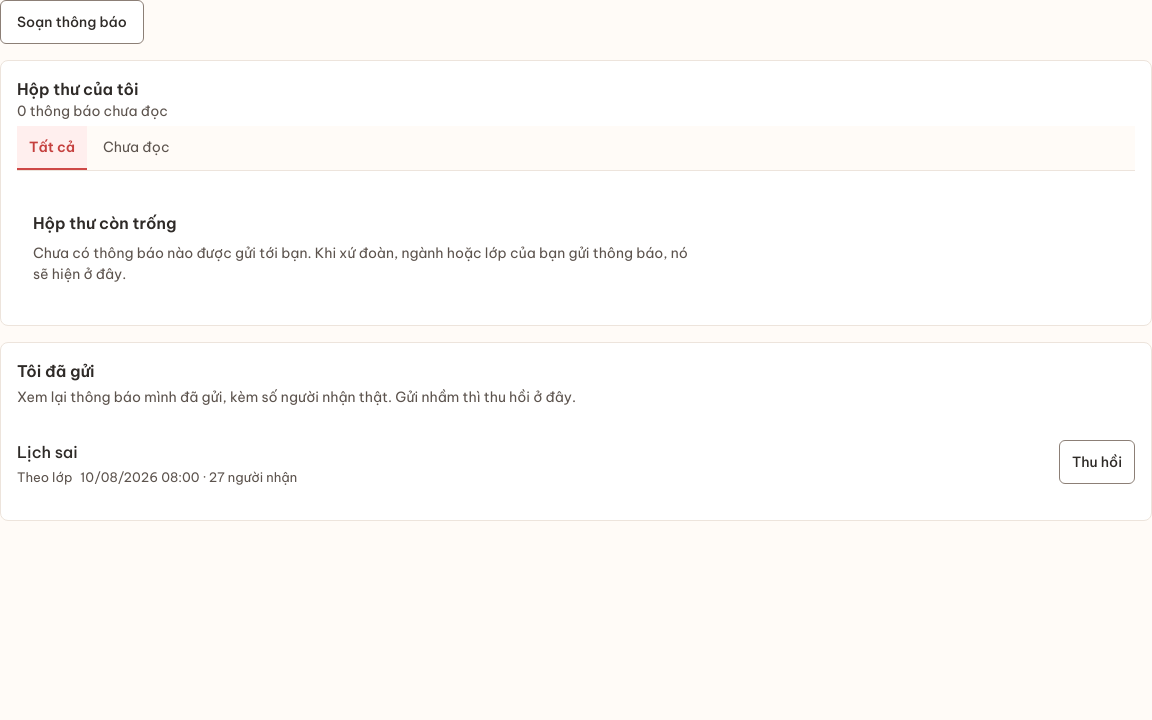
it: D-166 · thu hồi thông báo đã gửi › thiếu lý do — câu lỗi hiện TRONG hộp thoại, và hộp thoại ở lại mở
Click the button "Thu hồi": (1097, 462) [1059,440,1135,484]
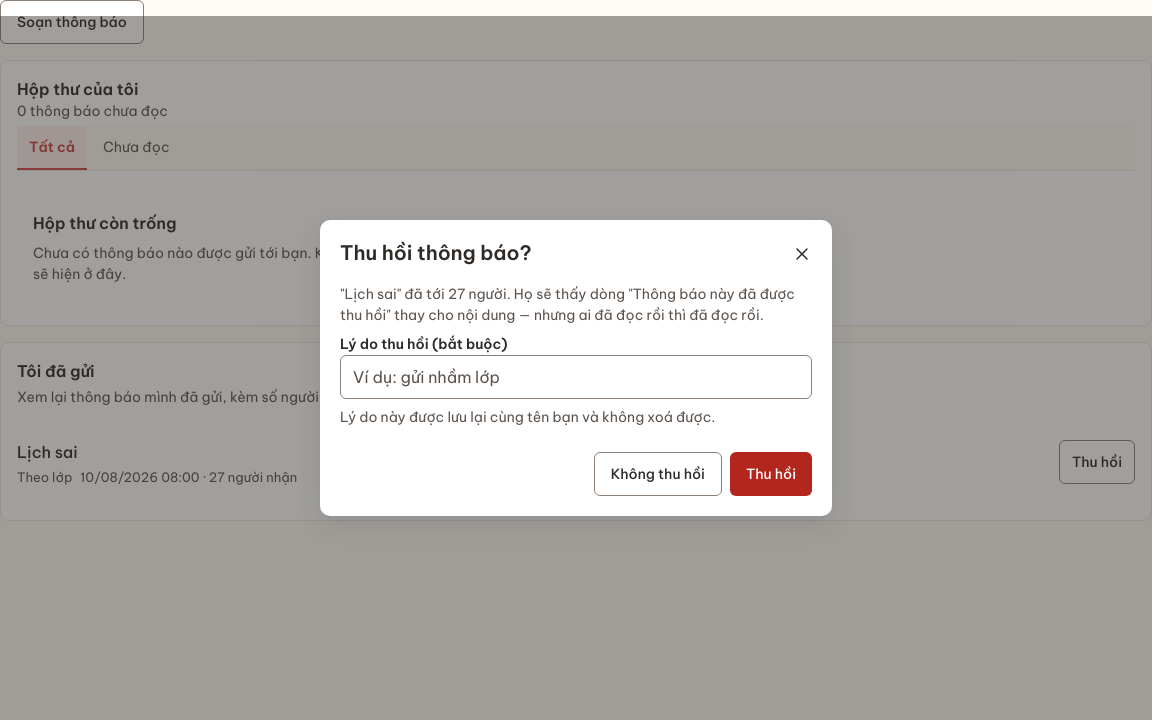
Click the button "Thu hồi": (771, 474) [730,452,812,496]
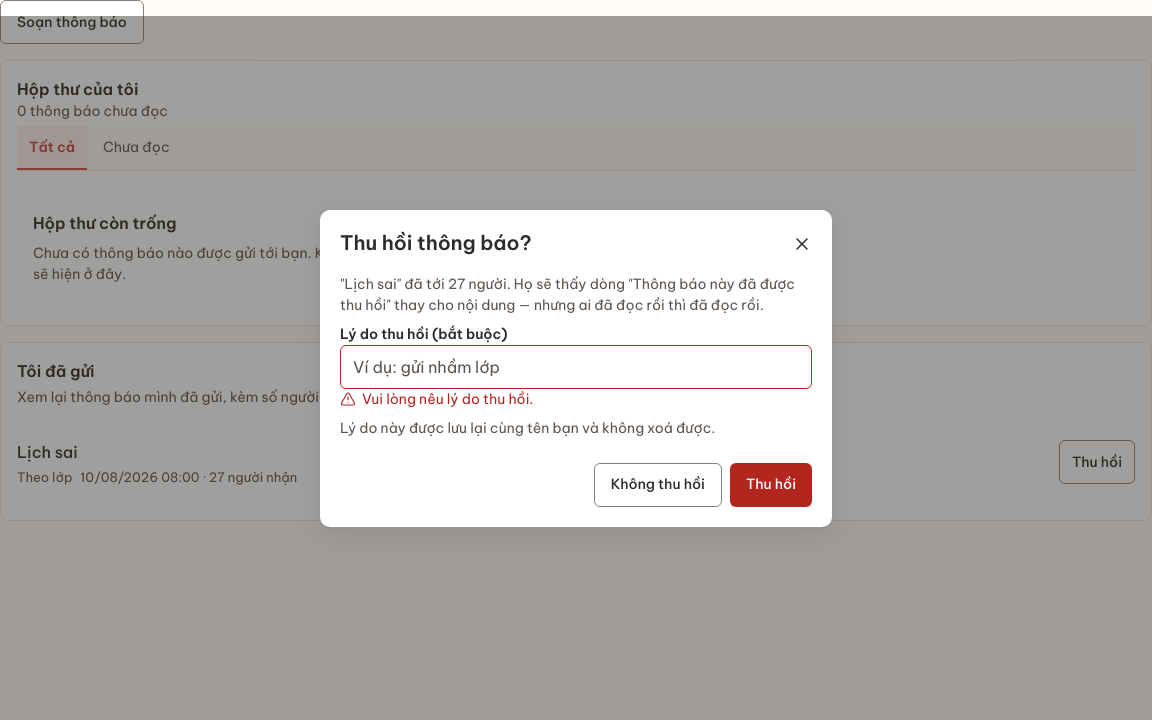
expect the dialog is shown: met, box [320,210,832,526]
expect the text "Vui lòng nêu lý do thu hồi." is shown: met, box [362,388,533,410]
